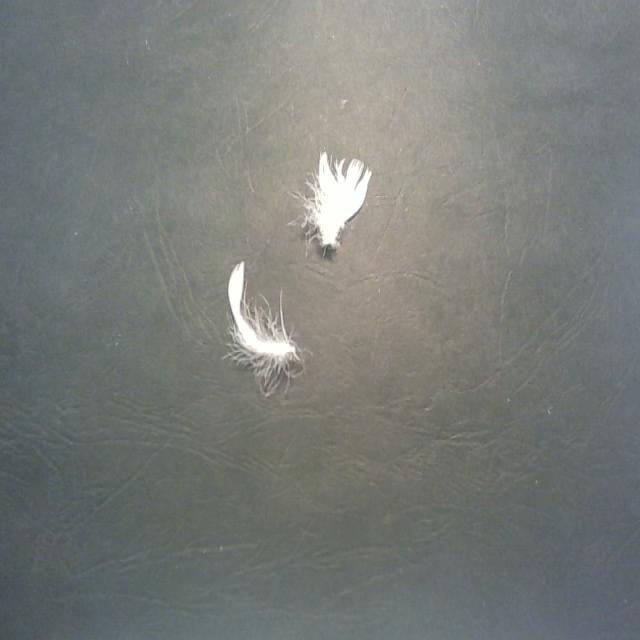feather: (219, 259, 304, 384), (301, 147, 380, 253)
